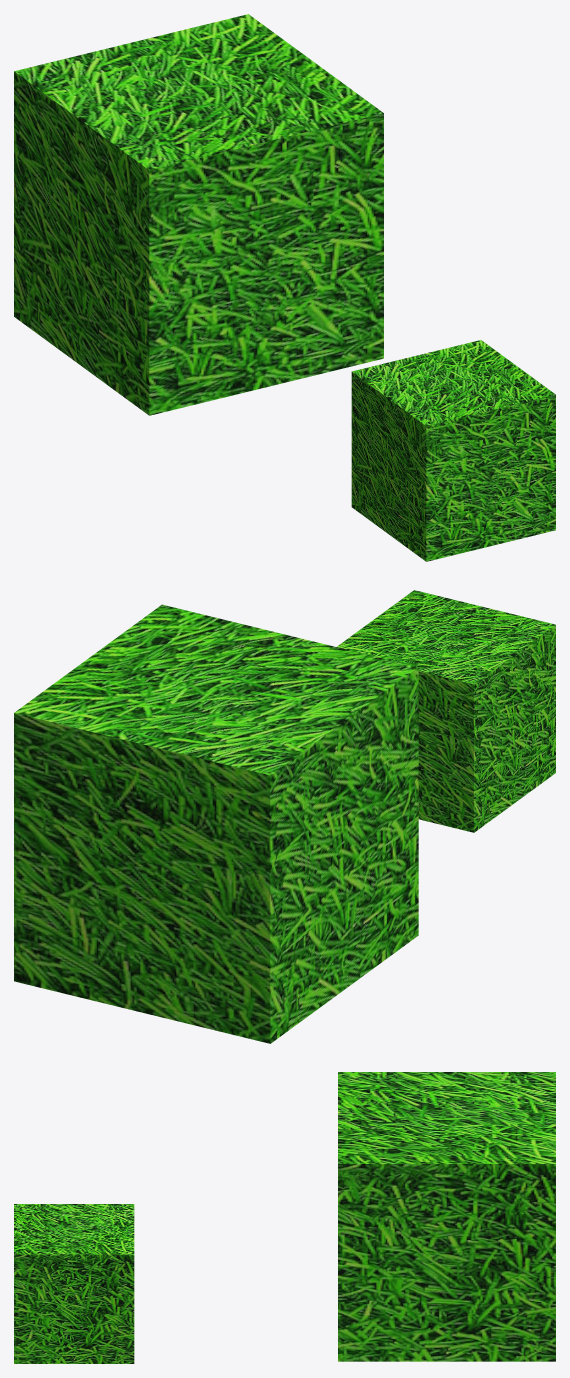
Rendered from cubes.glb.
3 views of the same model, one above another, from view 1: azimuth 30°, elevation 25°; view 2: azimuth 150°, elevation 25°; view 3: azimuth 270°, elevation 25° (orthographic). The views are drawn at different scales.
Parts seen in each view (by area): view 1: Cube.002, Cube.003; view 2: Cube.002, Cube.003; view 3: Cube.002, Cube.003.
Part boxes in pixels (box(x1,y1,x2,y2)): Cube.002: box(14, 14, 383, 415); Cube.003: box(351, 340, 555, 561); Cube.002: box(14, 604, 418, 1043); Cube.003: box(337, 590, 555, 832); Cube.002: box(338, 1072, 555, 1361); Cube.003: box(14, 1204, 134, 1363).
Size of the model in its own units: 1.97 by 2.11 by 4.9.
Materials: 1 (1 with a texture image).
